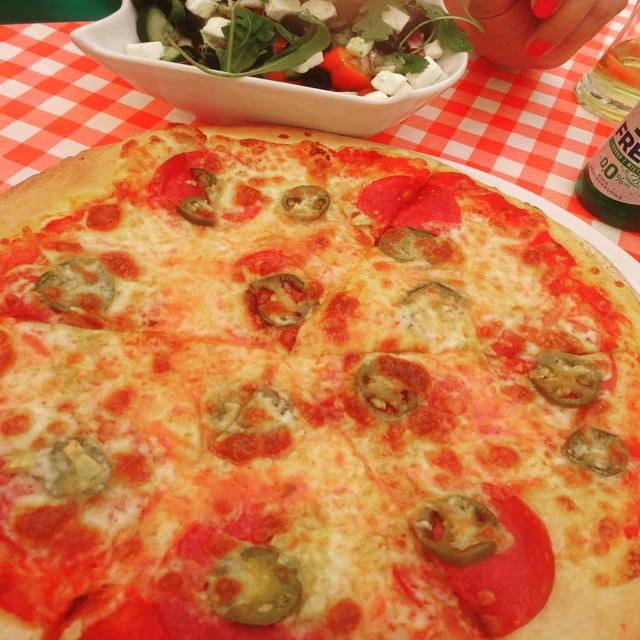pepperoni: (442, 479, 554, 636), (151, 518, 250, 640), (358, 176, 464, 234), (153, 147, 221, 210)
pizza: (0, 123, 640, 640)
